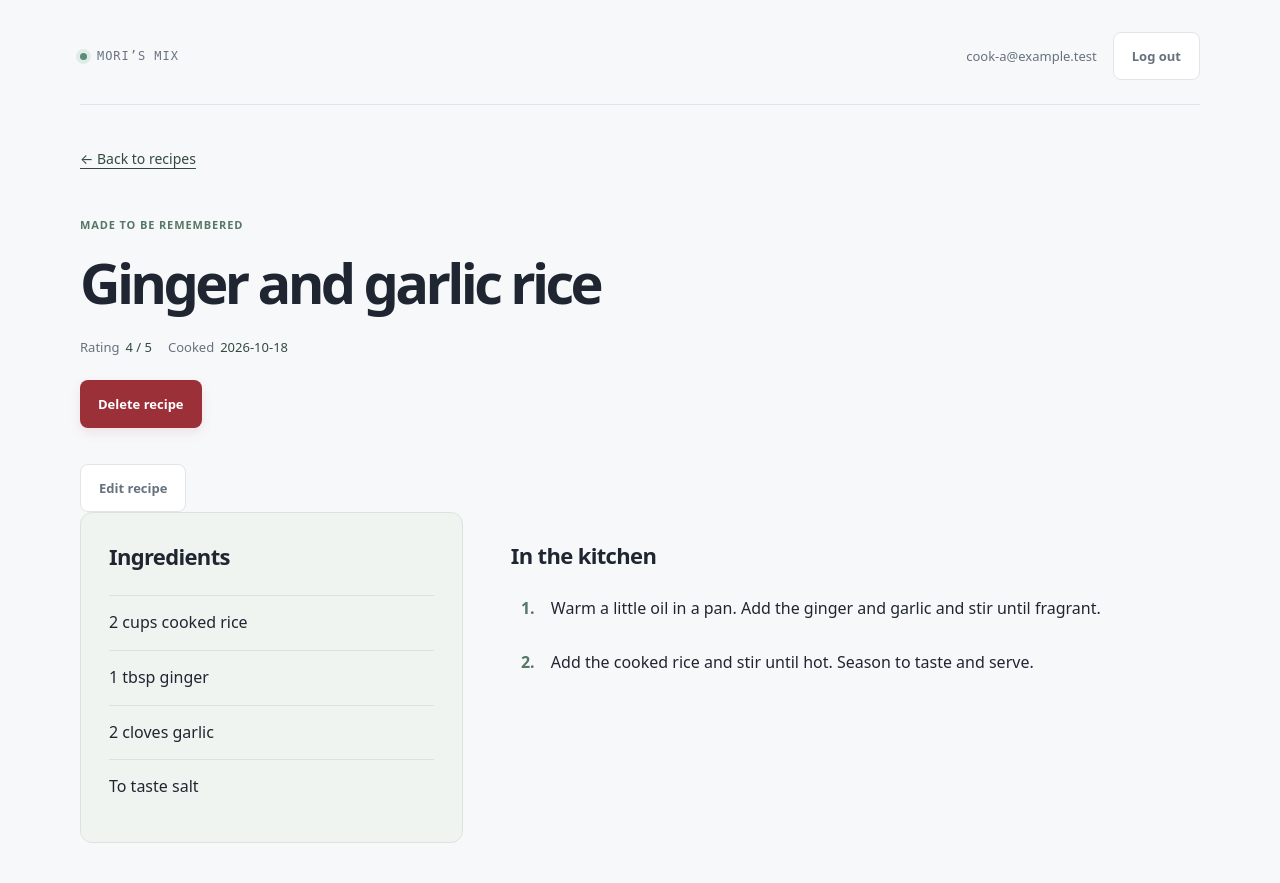
opens a labeled warning with the recipe name and makes no request before confirmation
The image size is (1280, 883).
Expected: the heading "Ginger and garlic rice" is shown, left=80, top=244, right=600, bottom=320
Click the button "Delete recipe".
click(141, 404)  # box left=80, top=380, right=202, bottom=428
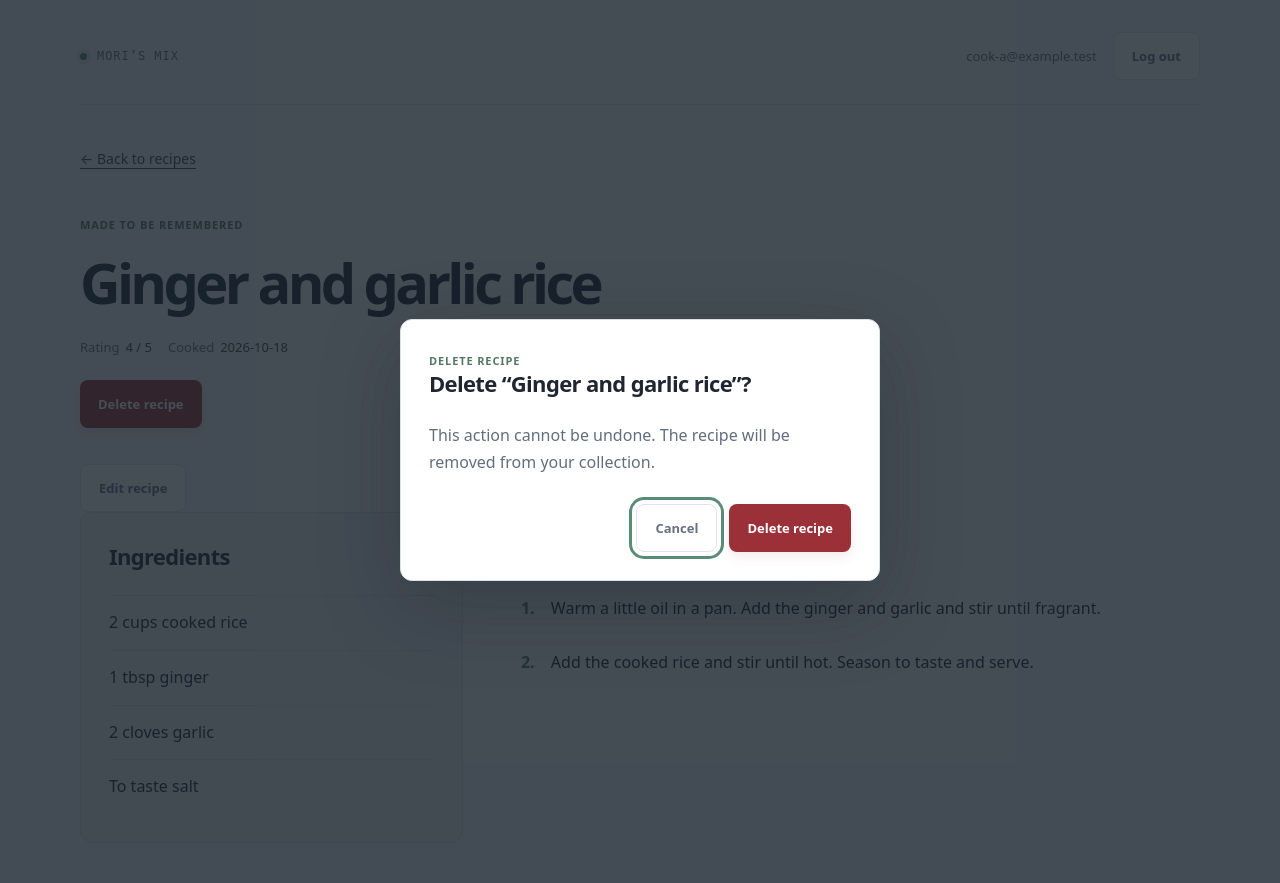
Now the text "cannot be undone" is shown, box left=429, top=424, right=790, bottom=473
